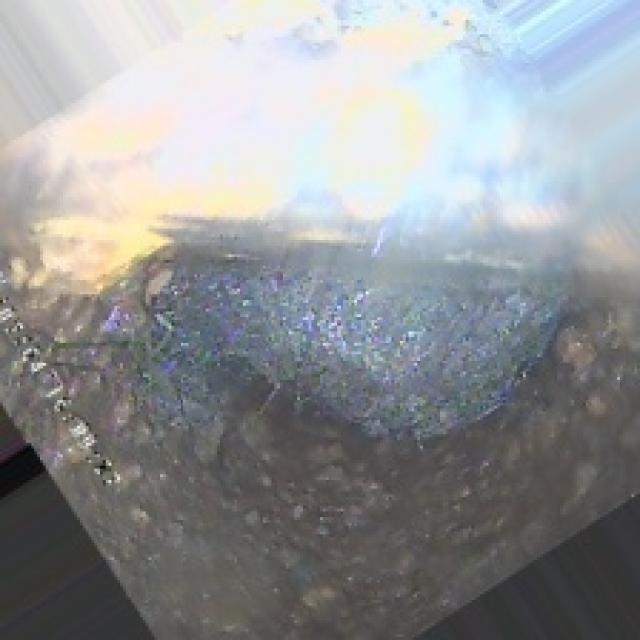Root_blockage: (148, 234, 563, 446)
